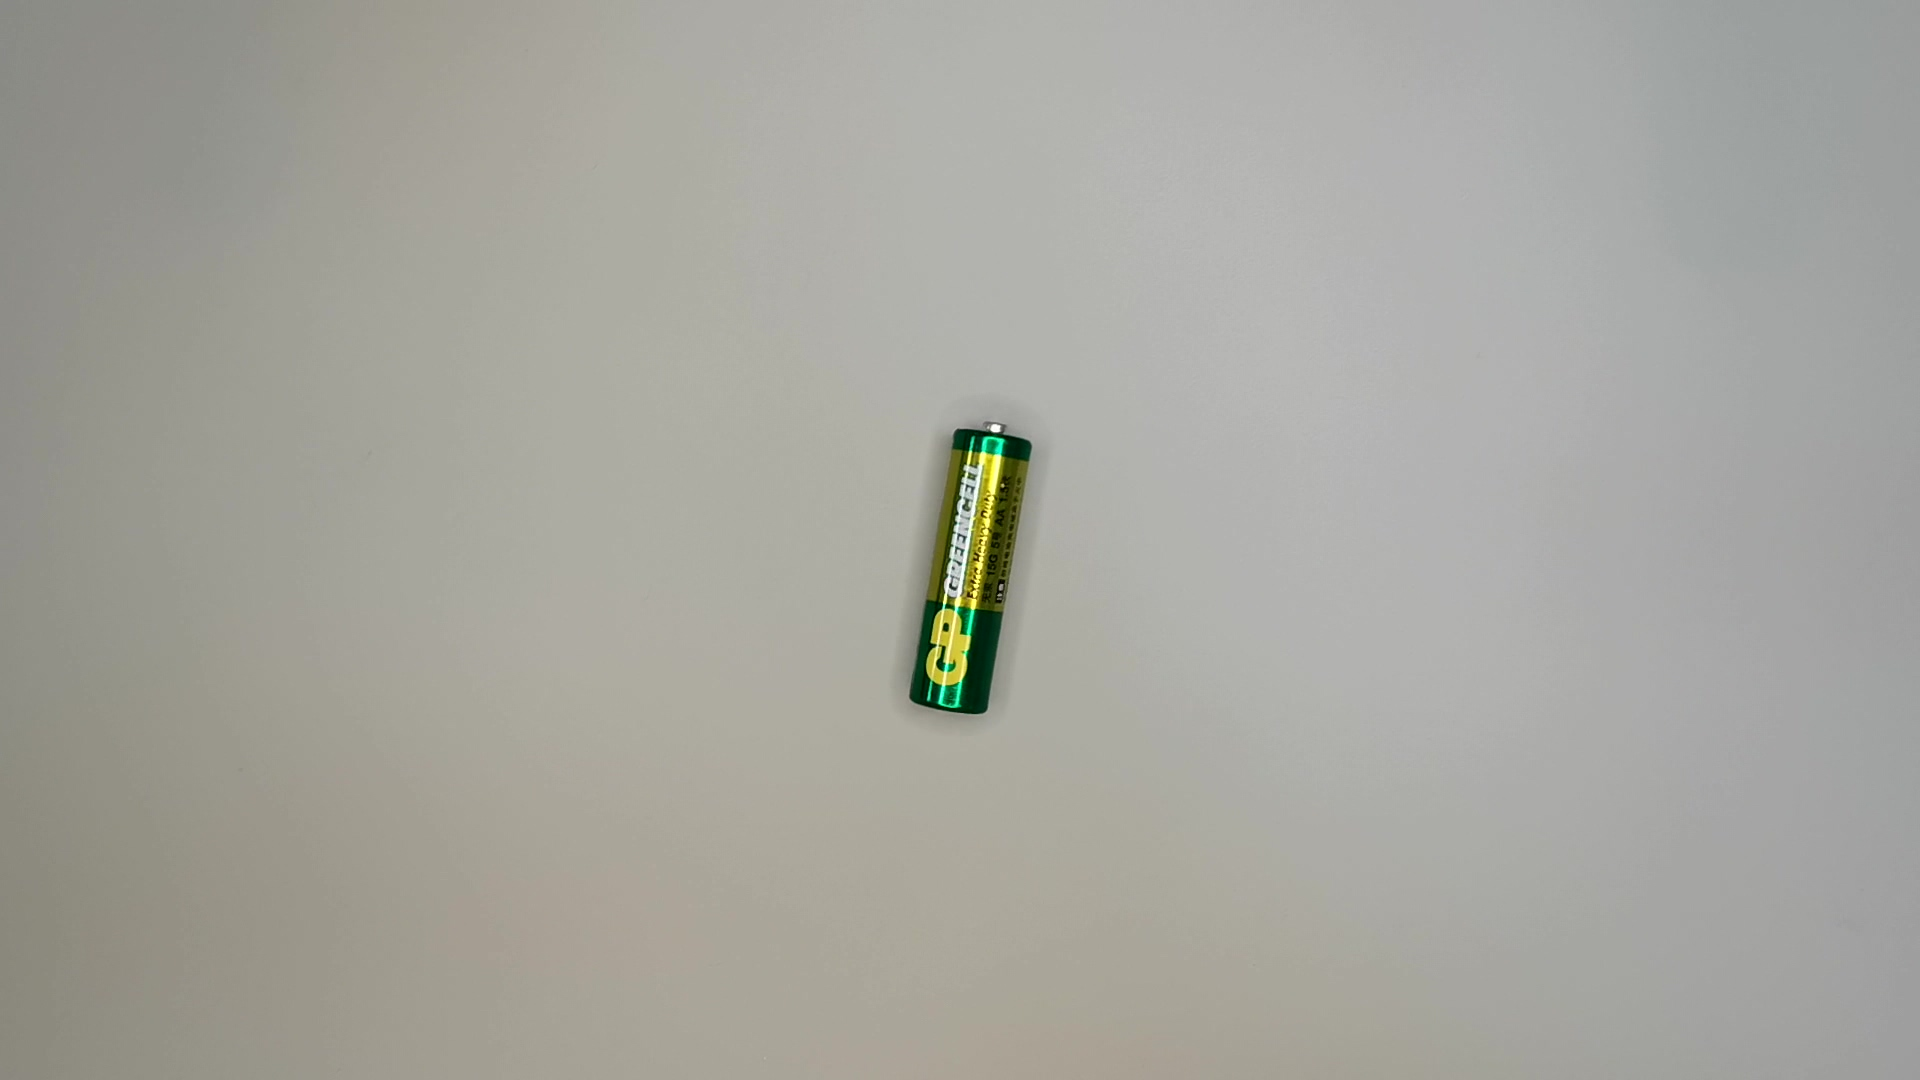battery: (906, 415, 1043, 723)
